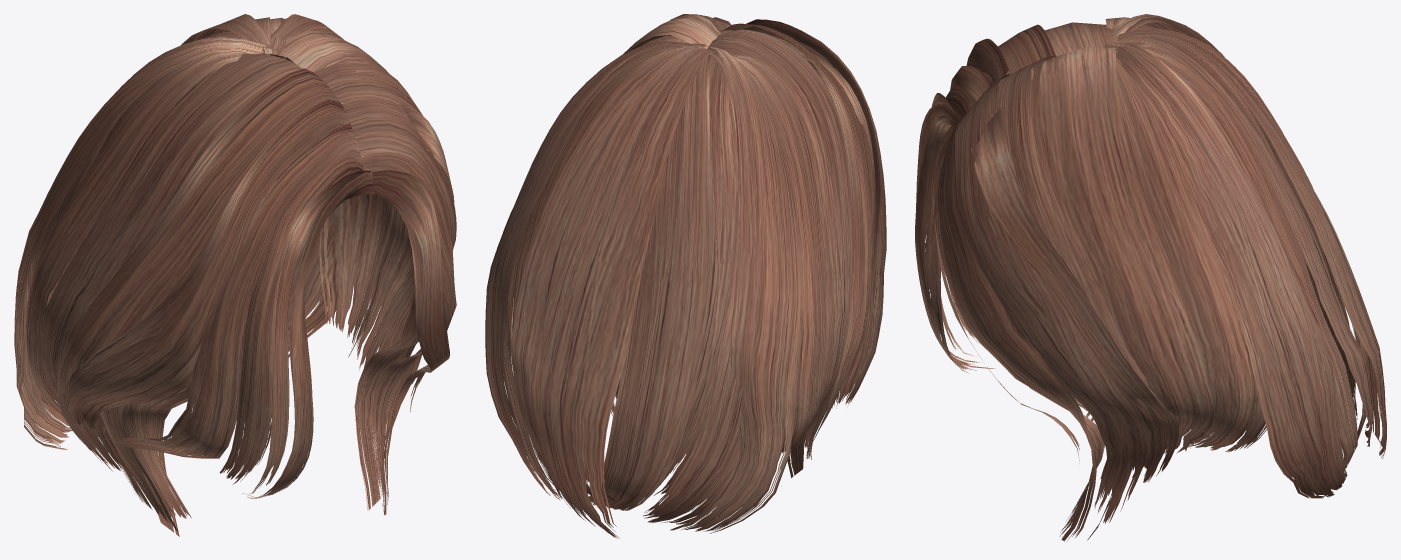
File: mh_elvs_short_daisy_hair.glb
The picture shows the model from 3 angles, left to right: view 1: azimuth 30°, elevation 25°; view 2: azimuth 150°, elevation 25°; view 3: azimuth 270°, elevation 25°; orthographic projection. The views are drawn at different scales.
Parts seen in each view (by area): view 1: mh_elvs_short_daisy_hair; view 2: mh_elvs_short_daisy_hair; view 3: mh_elvs_short_daisy_hair.
Part boxes in pixels (bbox=[...]): mh_elvs_short_daisy_hair: bbox=[14, 14, 456, 536]; mh_elvs_short_daisy_hair: bbox=[485, 14, 886, 538]; mh_elvs_short_daisy_hair: bbox=[915, 14, 1386, 542].
Size of the model in its own units: 0.2827 by 0.3417 by 0.3115.
Materials: 1 (1 with a texture image).
